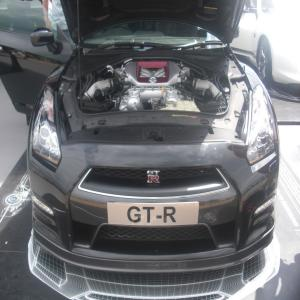Vehicle-registration-plate: (105, 200, 202, 238)
